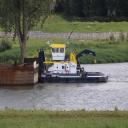tugboat: (38, 42, 110, 85)
